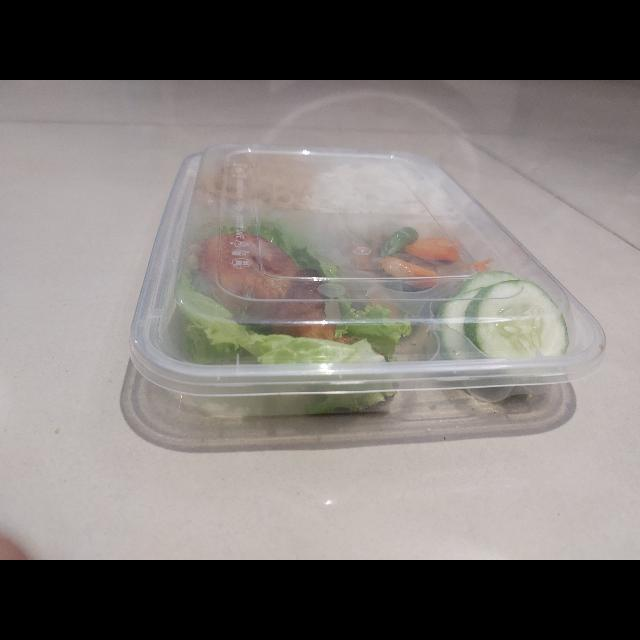bento: (118, 139, 622, 429)
